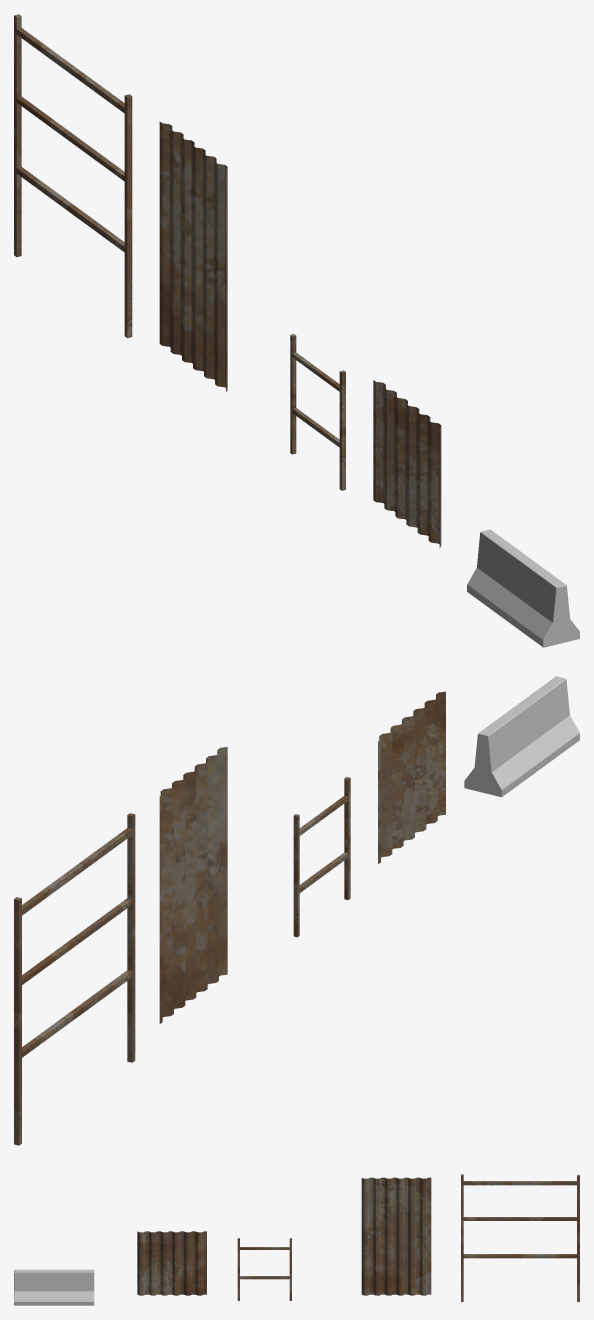
The model's file is RoadFences.fbx.
3 renders of one model, top to bottom at view 1: azimuth 30°, elevation 25°; view 2: azimuth 150°, elevation 25°; view 3: azimuth 270°, elevation 25°, orthographic. The views are drawn at different scales.
Visible parts, largest first — view 1: Cube.019, Cube.018, Cube.025, Cube.017, Cube.026; view 2: Cube.019, Cube.018, Cube.025, Cube.017, Cube.026; view 3: Cube.019, Cube.018, Cube.017, Cube.025, Cube.026.
Part boxes in pixels (x1,y1,x2,y2): Cube.019: [159, 121, 227, 392]; Cube.018: [373, 380, 441, 548]; Cube.025: [14, 14, 132, 338]; Cube.017: [467, 529, 579, 647]; Cube.026: [290, 334, 345, 490]; Cube.019: [159, 747, 227, 1023]; Cube.018: [378, 691, 445, 864]; Cube.025: [14, 813, 135, 1145]; Cube.017: [464, 676, 579, 797]; Cube.026: [293, 777, 350, 937]; Cube.019: [361, 1177, 431, 1295]; Cube.018: [137, 1231, 206, 1295]; Cube.017: [14, 1269, 94, 1305]; Cube.025: [461, 1174, 579, 1301]; Cube.026: [237, 1238, 291, 1300].
Bounding box in the file's own units: 83.49 × 520 × 2108.
